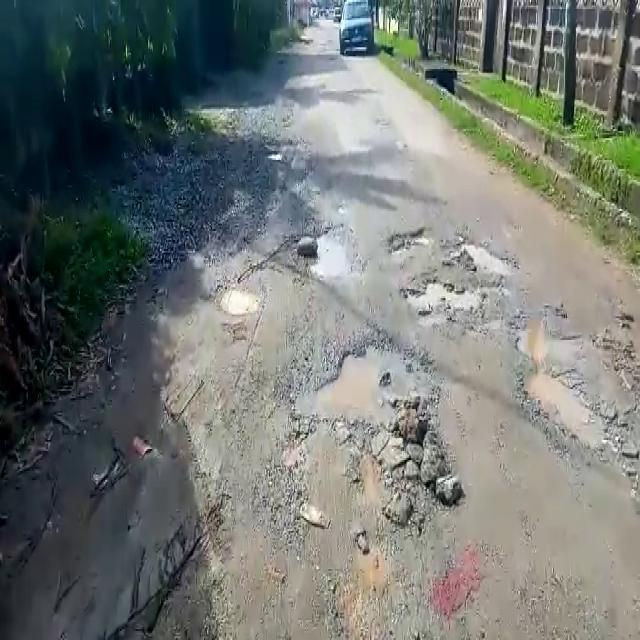pothole: (291, 336, 455, 437), (514, 328, 619, 460), (399, 272, 481, 315), (454, 239, 515, 279), (312, 227, 353, 277), (217, 280, 265, 316), (384, 226, 431, 257)
